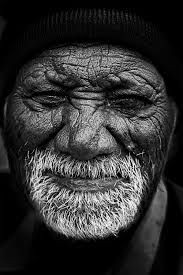no-mask: (7, 22, 183, 237)
